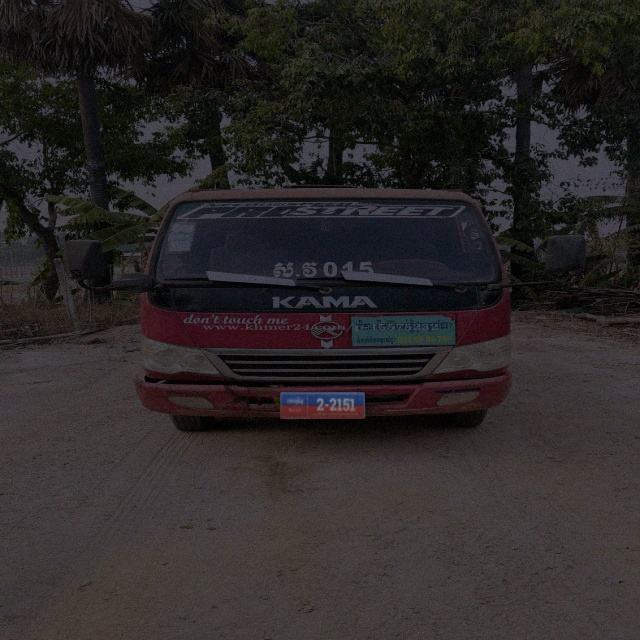Plate Number: (280, 392, 366, 420)
